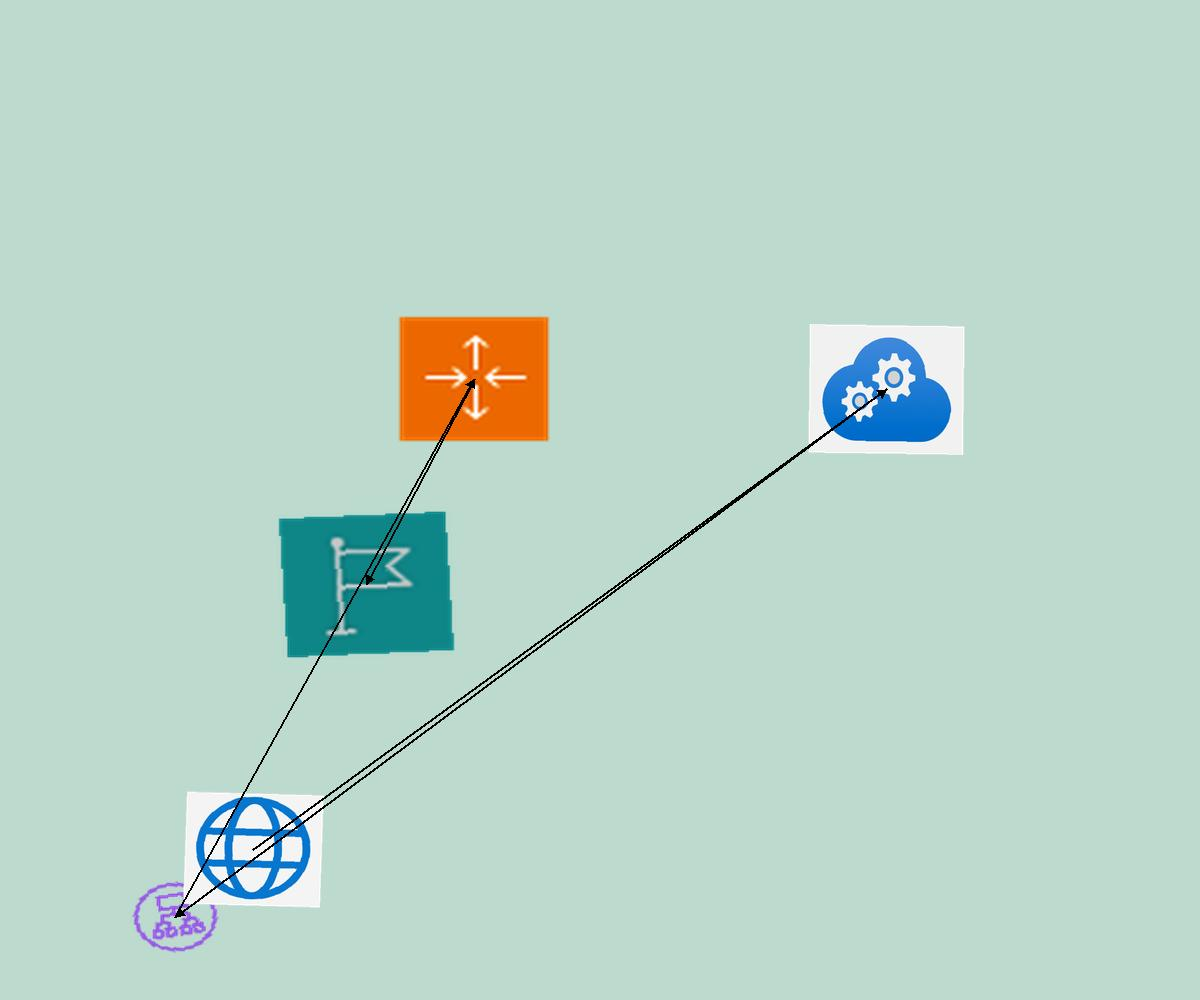AWS-Region: (277, 510, 456, 659)
AWS-Res_Elastic-Load-Balancing_Application-Load-Balancer: (121, 872, 230, 962)
AWS-Scaling-group: (396, 314, 552, 444)
Azure_cloud_services: (808, 324, 965, 455)
Azure_http: (183, 791, 324, 908)
